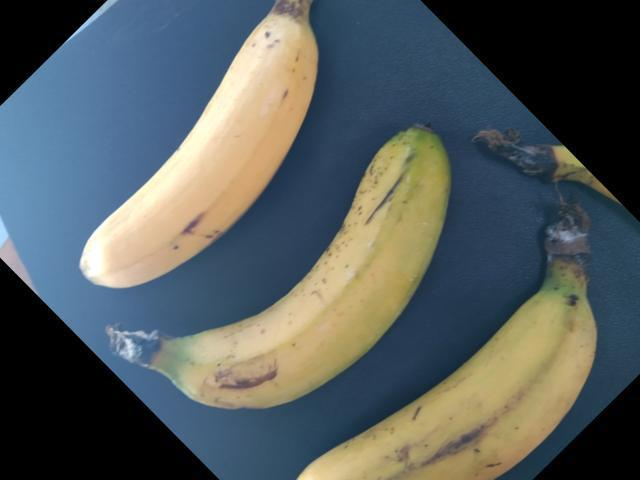freshripe: (66, 20, 324, 290)
ripe: (165, 126, 447, 408), (285, 284, 619, 479)
